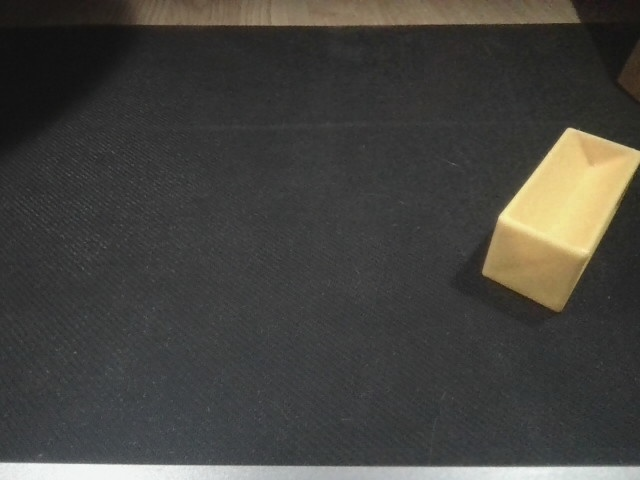YellowSample: (477, 126, 640, 318)
